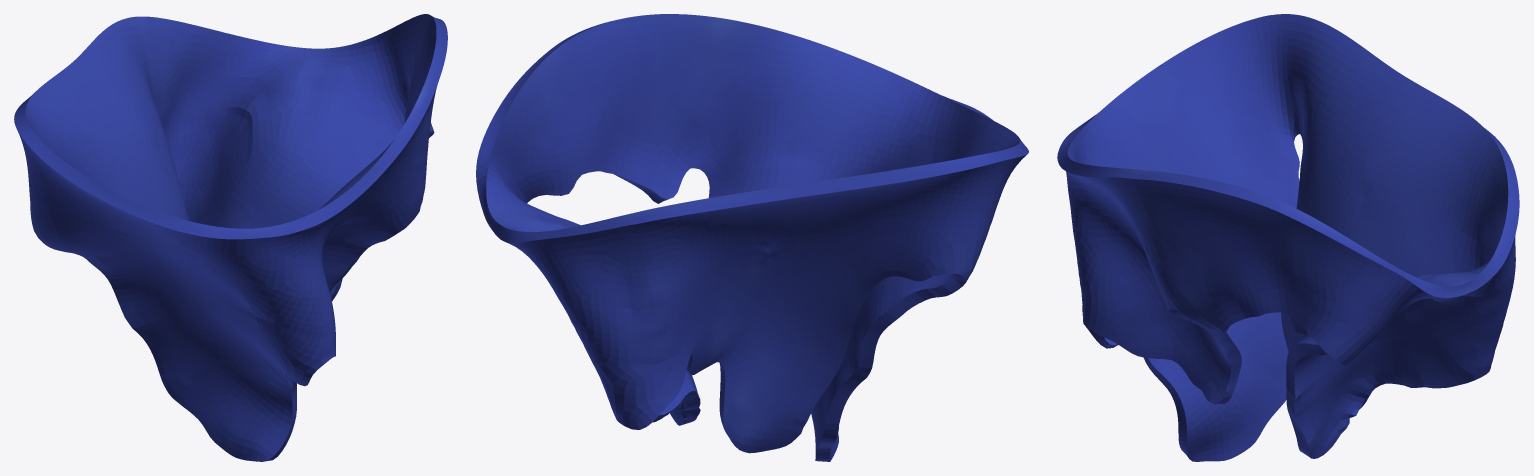
3 views of the same model, side by side, from view 1: azimuth 30°, elevation 25°; view 2: azimuth 150°, elevation 25°; view 3: azimuth 270°, elevation 25° (orthographic). The views are drawn at different scales.
Visible parts, largest first — view 1: OCS14_maxS_7; view 2: OCS14_maxS_7; view 3: OCS14_maxS_7.
Part boxes in pixels (x1,y1,x2,y2): OCS14_maxS_7: [14, 14, 447, 461]; OCS14_maxS_7: [476, 14, 1028, 461]; OCS14_maxS_7: [1057, 14, 1519, 461].
Size of the model in its own units: 1.45 by 1.17 by 1.32.
